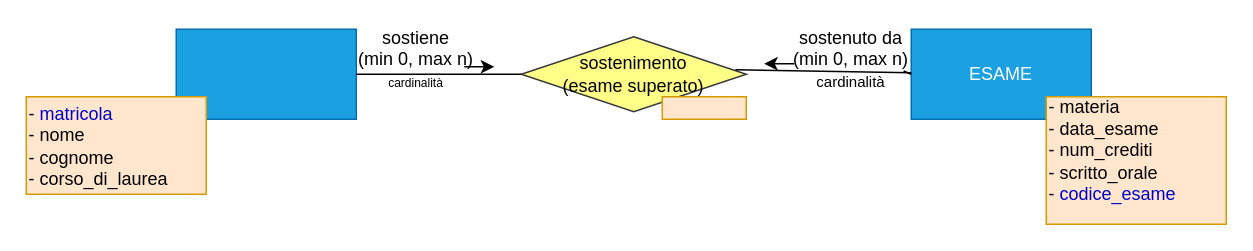
Image size: 1253x251. Some labels were removed from this diagram. Each missing label, with the box of its shape:
- voto: (661, 95, 746, 119)
STUDENTE: (175, 28, 356, 119)
